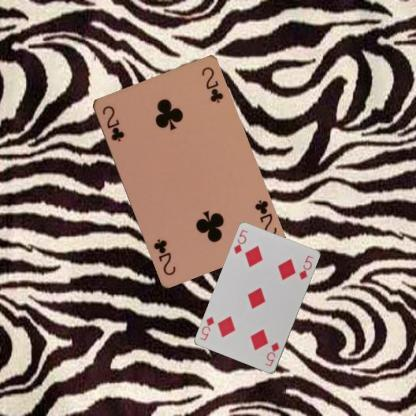2c: (251, 197, 278, 238), (100, 102, 126, 144)
5d: (231, 226, 249, 256), (262, 340, 280, 368)
